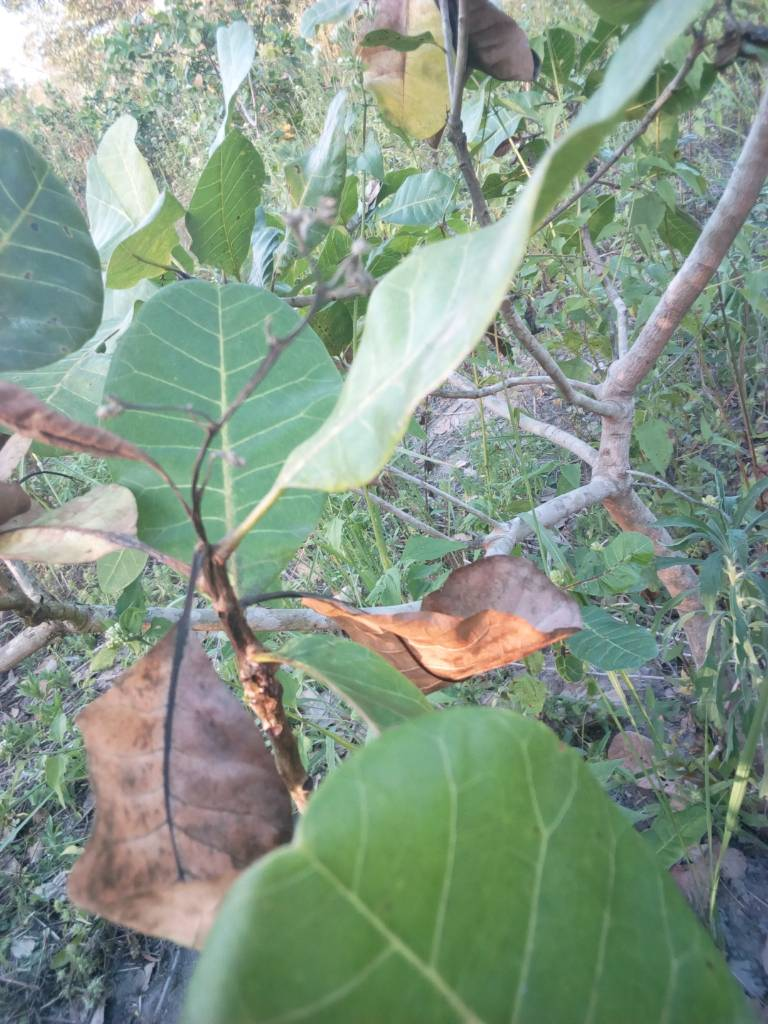Dessèchement des bourgeons: (172, 464, 304, 652)
